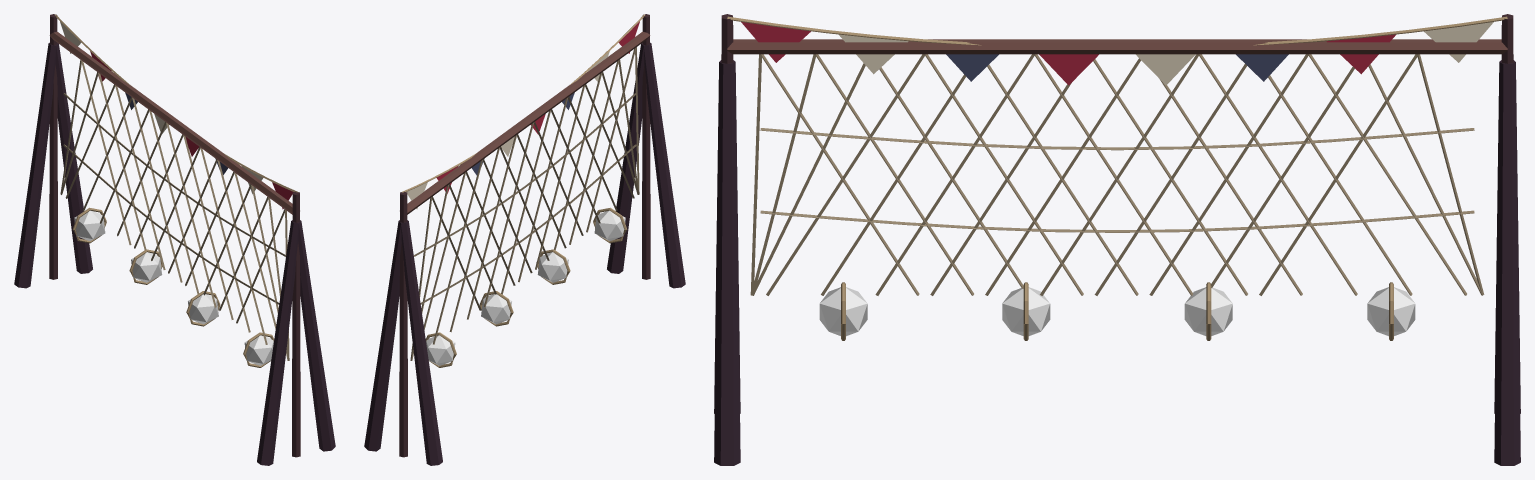
Rendered from Fair_NetRack.fbx.
3 views of the same model, side by side, from view 1: azimuth 30°, elevation 25°; view 2: azimuth 150°, elevation 25°; view 3: azimuth 270°, elevation 25° (orthographic). The views are drawn at different scales.
Visible parts, largest first — view 1: Fair_NetRack; view 2: Fair_NetRack; view 3: Fair_NetRack.
Part boxes in pixels (x1=…): Fair_NetRack: x1=14, y1=14, x2=335, y2=465; Fair_NetRack: x1=364, y1=14, x2=685, y2=465; Fair_NetRack: x1=714, y1=14, x2=1520, y2=465.
Size of what is drawn, in the model's own units: 1.67 by 5.64 by 9.72.
Materials: 2 (1 with a texture image).
